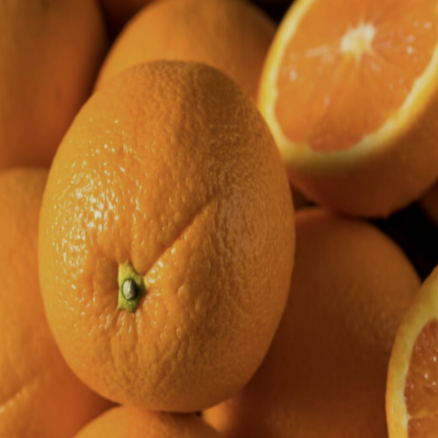orange: (7, 34, 307, 431)
